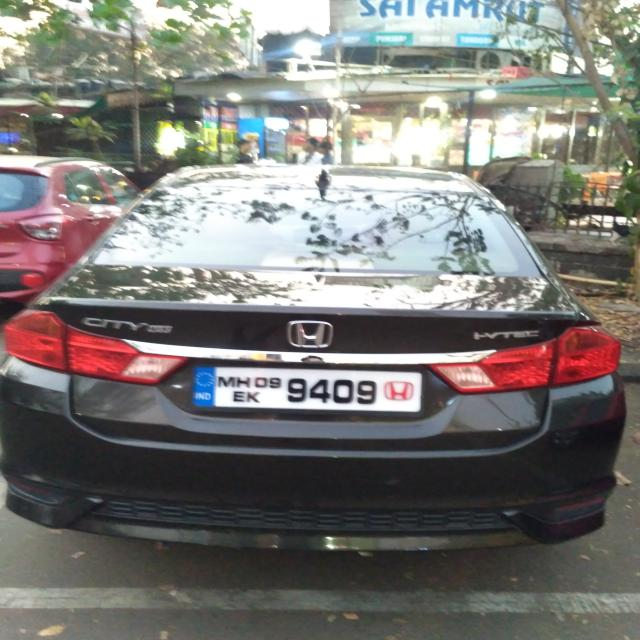Number-Plate: (196, 364, 426, 414)
